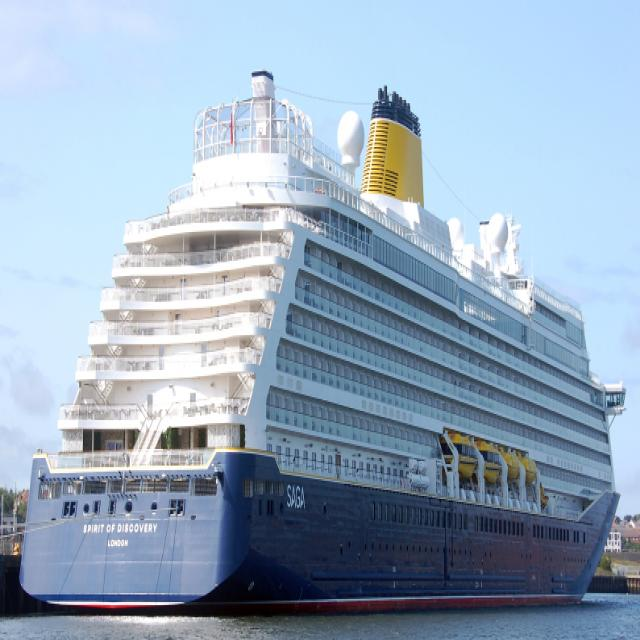cruises: (16, 34, 629, 611)
